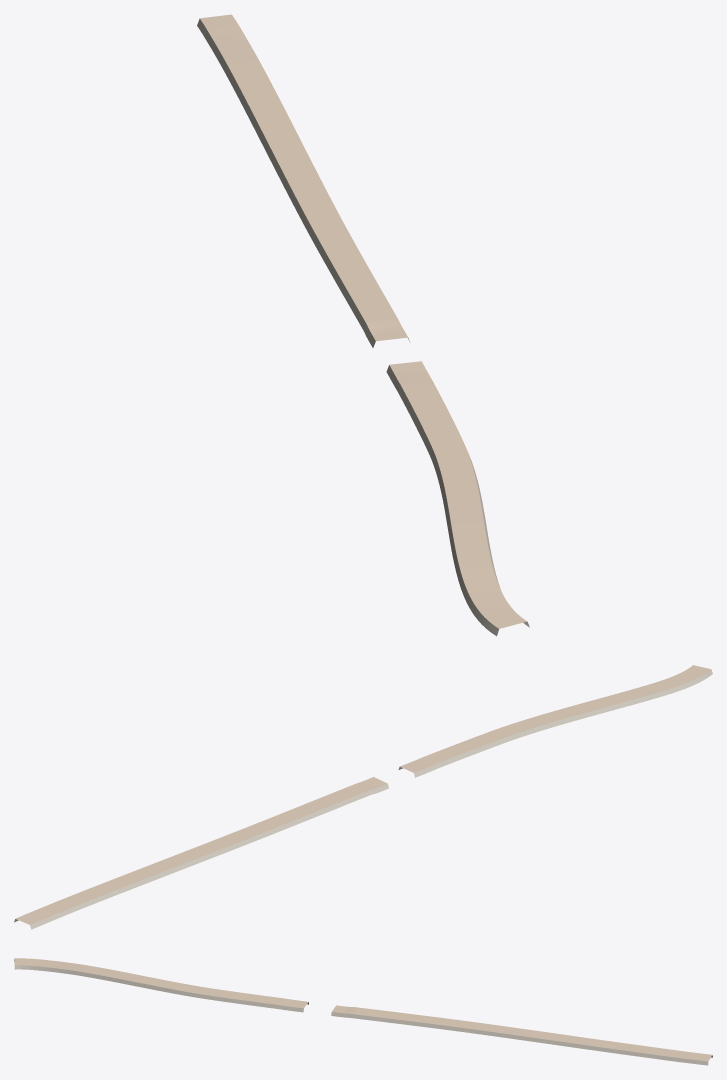
The model's file is SM_RiyadhNights_Shortcut_PalmTrail.fbx.
3 views of the same model, one above another, from view 1: azimuth 30°, elevation 25°; view 2: azimuth 150°, elevation 25°; view 3: azimuth 270°, elevation 25° (orthographic). The views are drawn at different scales.
Parts seen in each view (by area): view 1: SM_RiyadhNights_Shortcut_PalmTrail; view 2: SM_RiyadhNights_Shortcut_PalmTrail; view 3: SM_RiyadhNights_Shortcut_PalmTrail.
Part boxes in pixels (bbox=[...]): SM_RiyadhNights_Shortcut_PalmTrail: bbox=[197, 14, 529, 636]; SM_RiyadhNights_Shortcut_PalmTrail: bbox=[14, 665, 712, 929]; SM_RiyadhNights_Shortcut_PalmTrail: bbox=[14, 958, 712, 1065].
Bounding box in the file's own units: 10470 × 264 × 29330.
